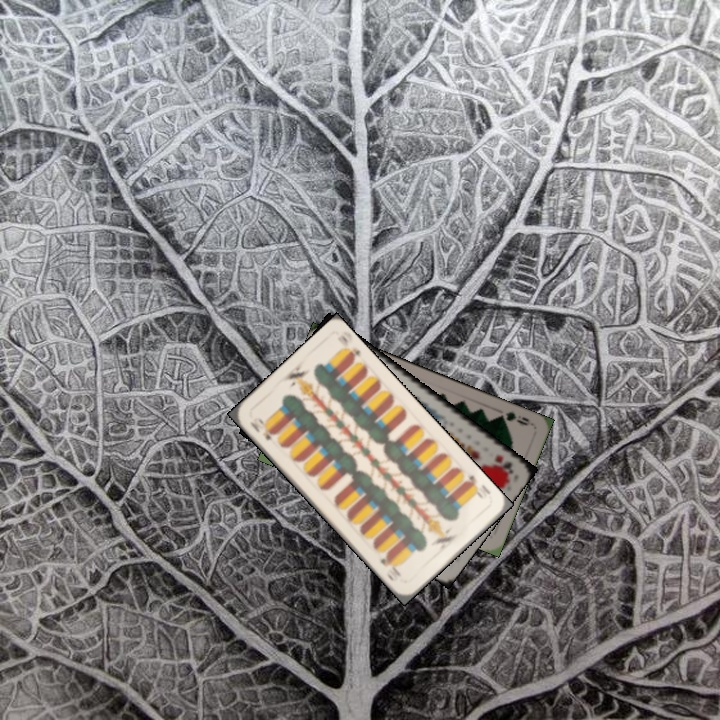E10: (246, 413, 277, 444), (461, 471, 486, 501)
G9: (494, 407, 535, 428)
HK: (491, 450, 515, 477)
